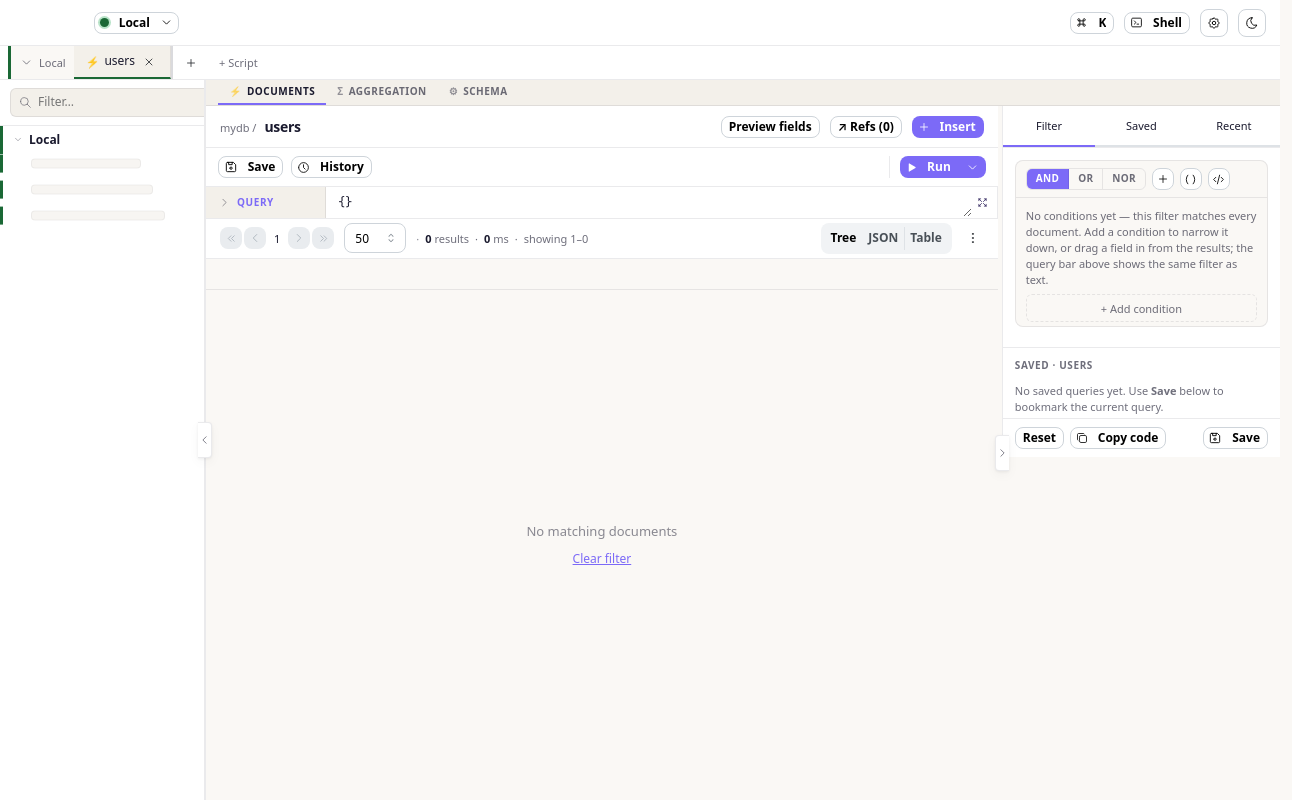
Test case: Query Builder — symbolic operators › resolves > to $gt on blur
Click the button named "Add condition".
click(1163, 179)  # box [1152,168,1174,190]
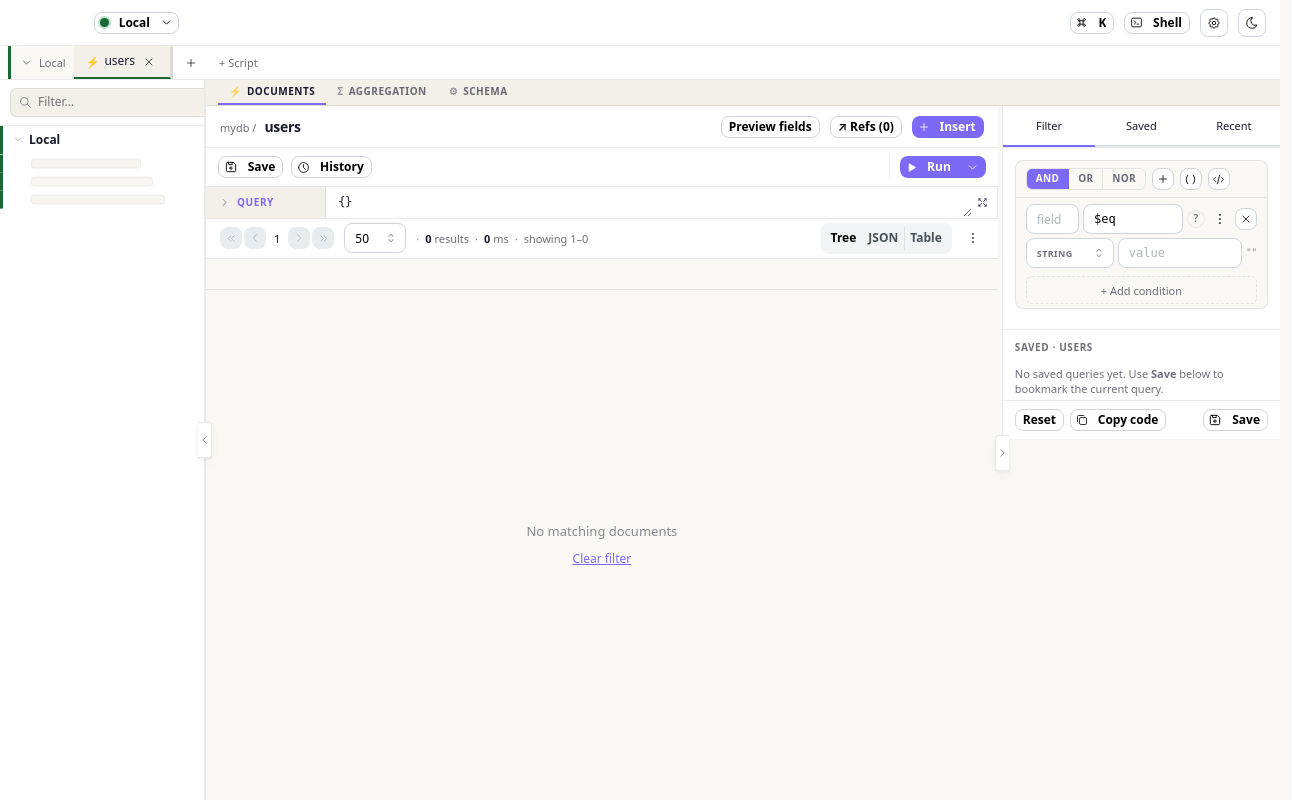
Now the field with placeholder "field" is shown, box [1026,204,1079,234]
Replace the text in the field with placeholder "$op" with ">" at (1133, 219), box [1083,204,1183,234]
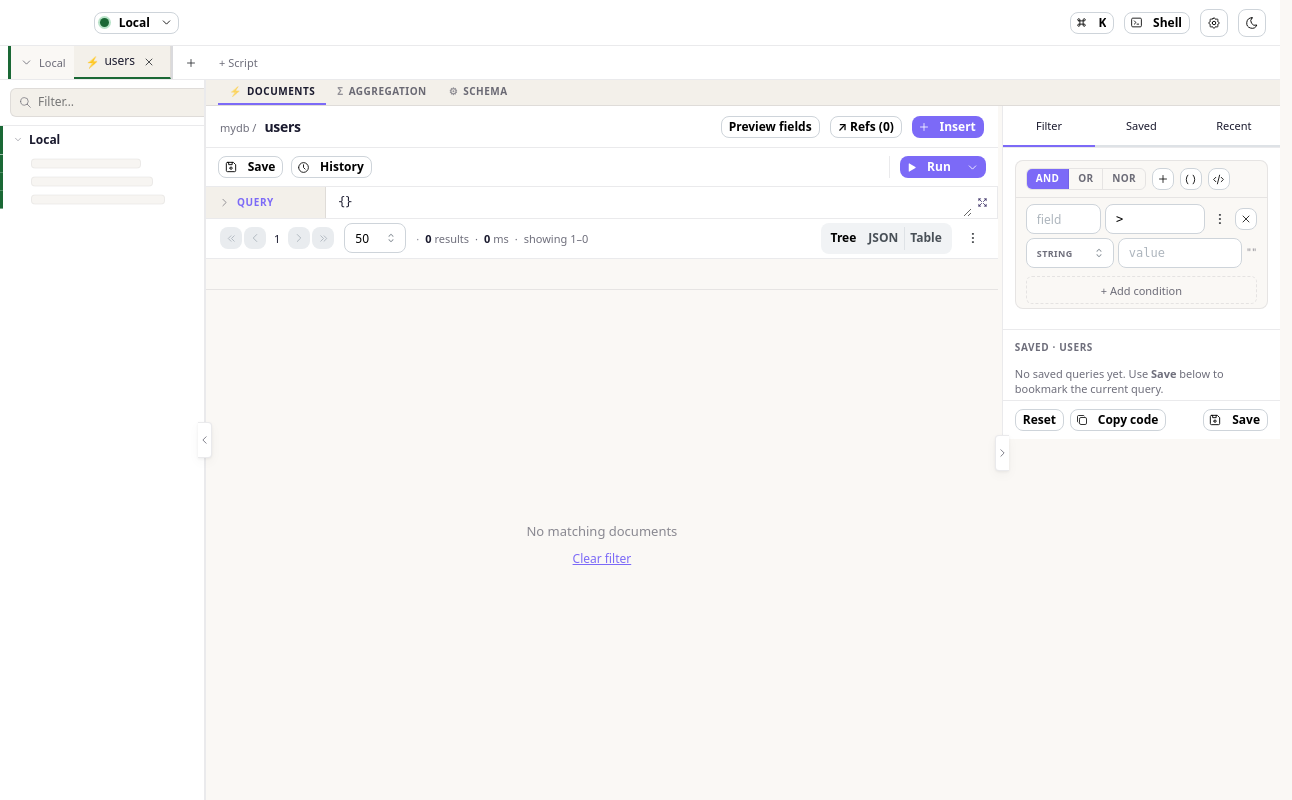
Leave the field with placeholder "$op", box [1105,204,1205,234]
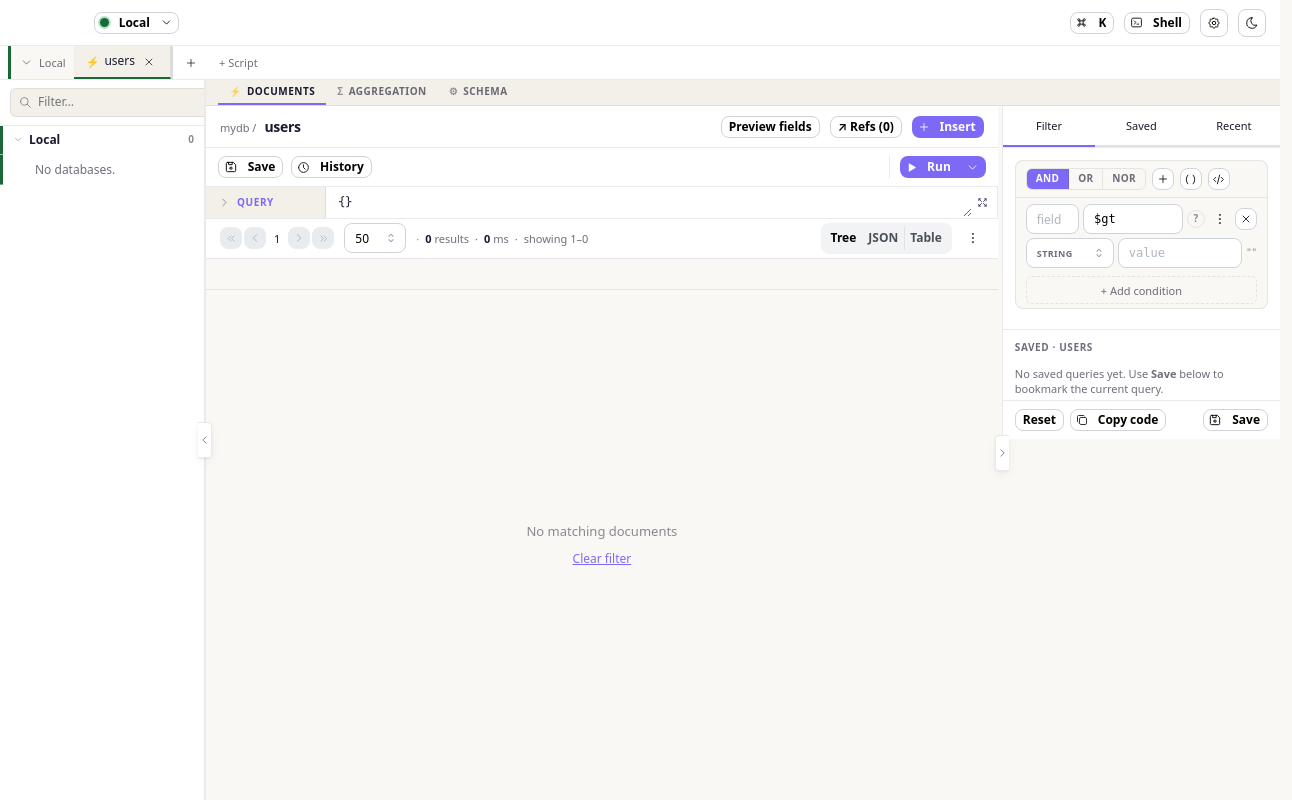
Now the field with placeholder "$op" holds "$gt", box [1083,204,1183,234]
